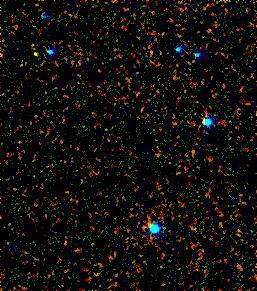star: (20, 38, 50, 68)
